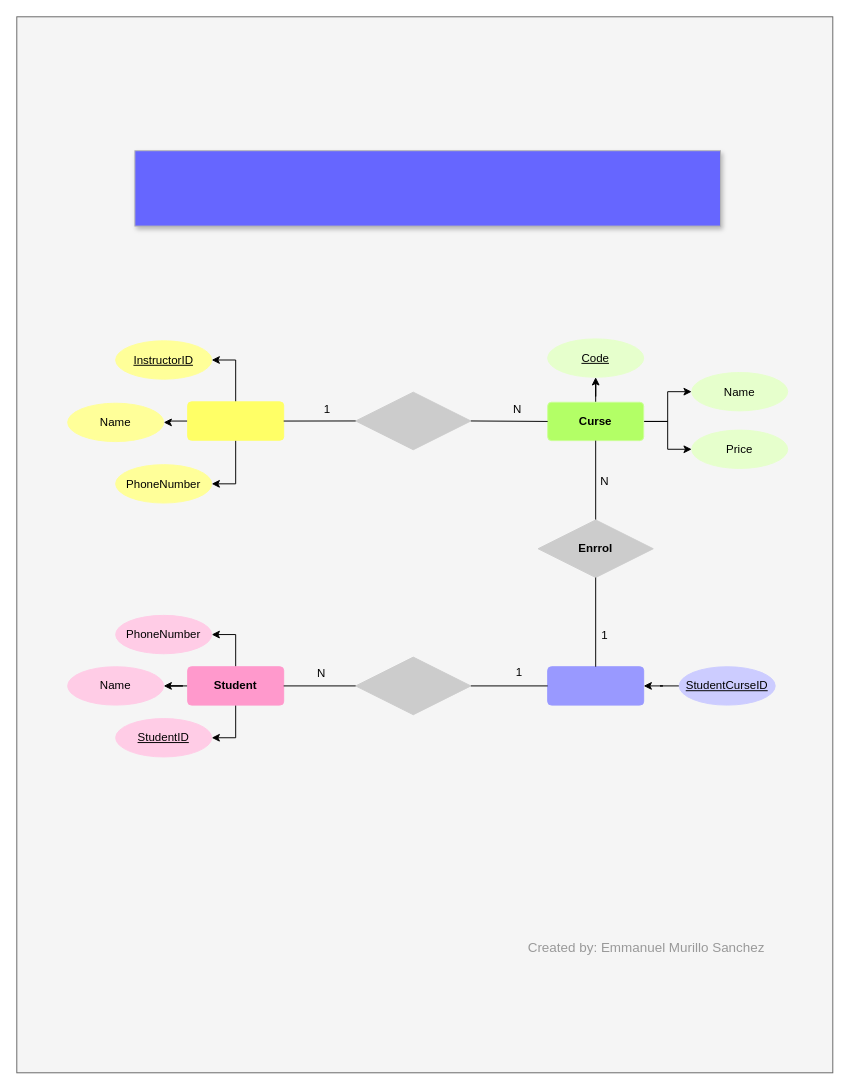
Image size: 850x1090. Some labels were removed from this diagram. The centre of each missing label's shape, as x and y in pixels:
Contain: the point at 413,685
Instructor: the point at 235,420
StudentCurses: the point at 595,685
Teach: the point at 413,420
Training Company: the point at 428,189
